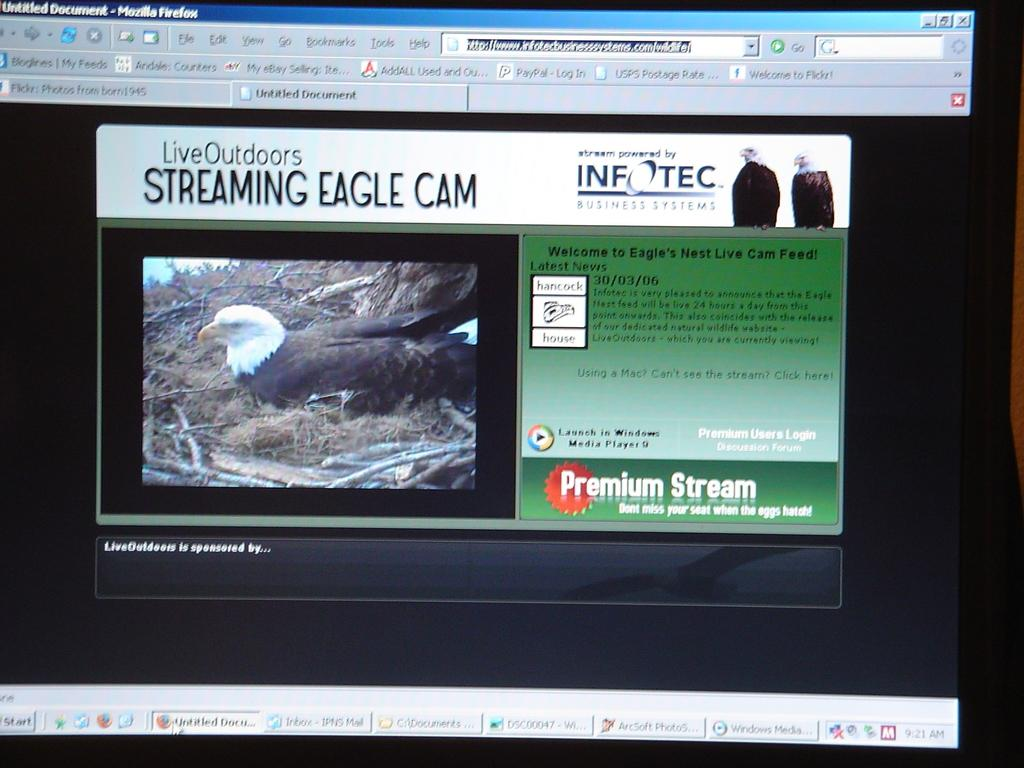Computer-monitor: (35, 3, 977, 698)
